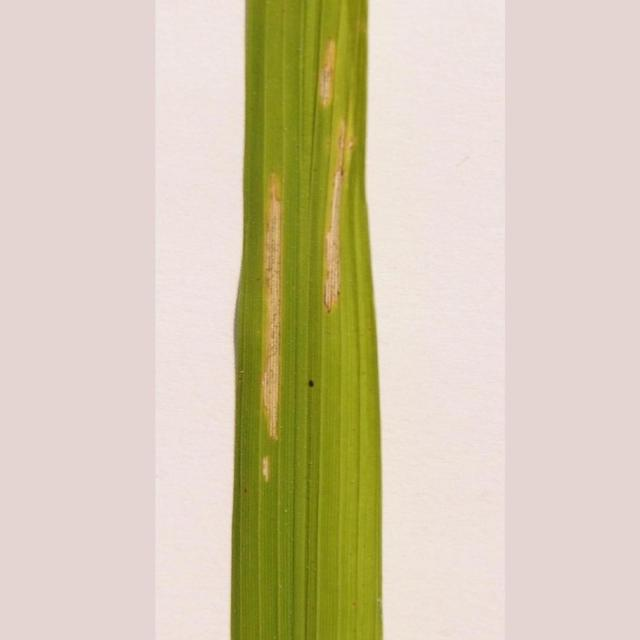Bacterial leaf blight: (250, 166, 290, 500), (318, 113, 363, 335), (307, 31, 352, 111)
